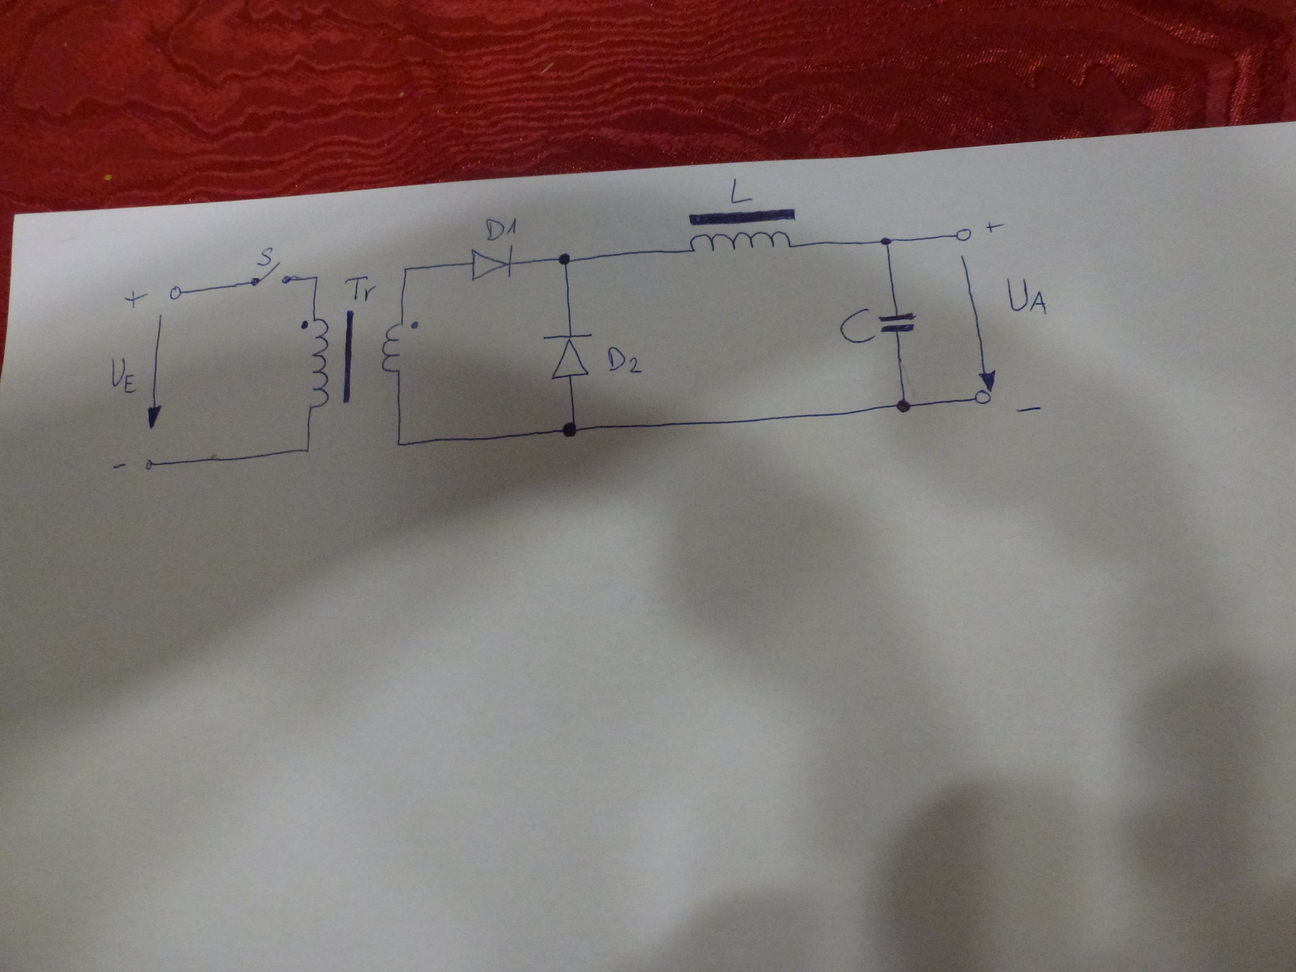capacitor.unpolarized: (878, 310, 919, 336)
diode: (543, 328, 594, 381), (465, 242, 515, 284)
inductor: (683, 206, 798, 255)
junction: (560, 418, 580, 440), (893, 395, 914, 415), (554, 249, 574, 269), (876, 231, 895, 250), (399, 262, 414, 275), (300, 443, 313, 456), (310, 272, 322, 284), (393, 438, 405, 450)
switch: (248, 261, 293, 288)
terminal: (952, 225, 977, 243), (971, 388, 994, 407), (163, 284, 186, 301), (142, 457, 158, 471)
text: (1003, 273, 1049, 317), (838, 306, 878, 346), (107, 353, 141, 395), (603, 343, 642, 376), (724, 173, 760, 205), (481, 214, 520, 243), (344, 275, 376, 303), (255, 245, 277, 268)
transformer: (297, 305, 422, 414)
